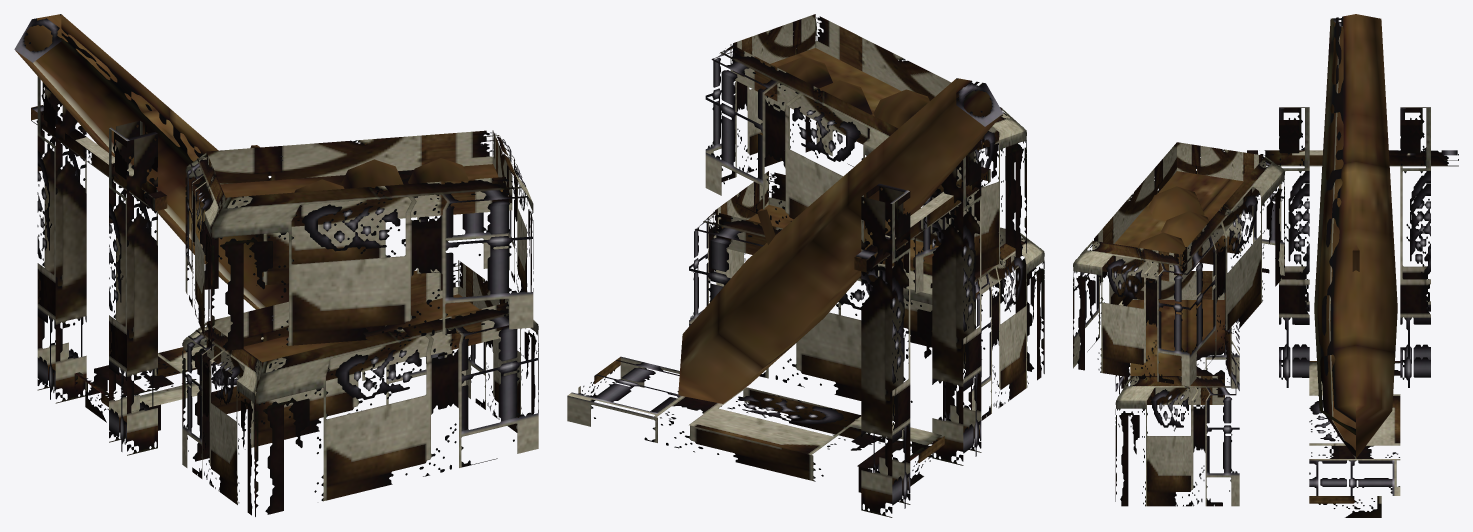
File: Cannon01.obj
The picture shows the model from 3 angles, left to right: view 1: azimuth 30°, elevation 25°; view 2: azimuth 150°, elevation 25°; view 3: azimuth 270°, elevation 25°; orthographic projection. The views are drawn at different scales.
Visible parts, largest first — view 1: Mesh_0; view 2: Mesh_0; view 3: Mesh_0.
Part boxes in pixels (x1,y1,x2,y2): Mesh_0: (14,14,538,516); Mesh_0: (567,14,1044,517); Mesh_0: (1073,14,1458,517).
Bounding box in the file's own units: 1.36 × 1.33 × 1.32.
Materials: 1 (1 with a texture image).
